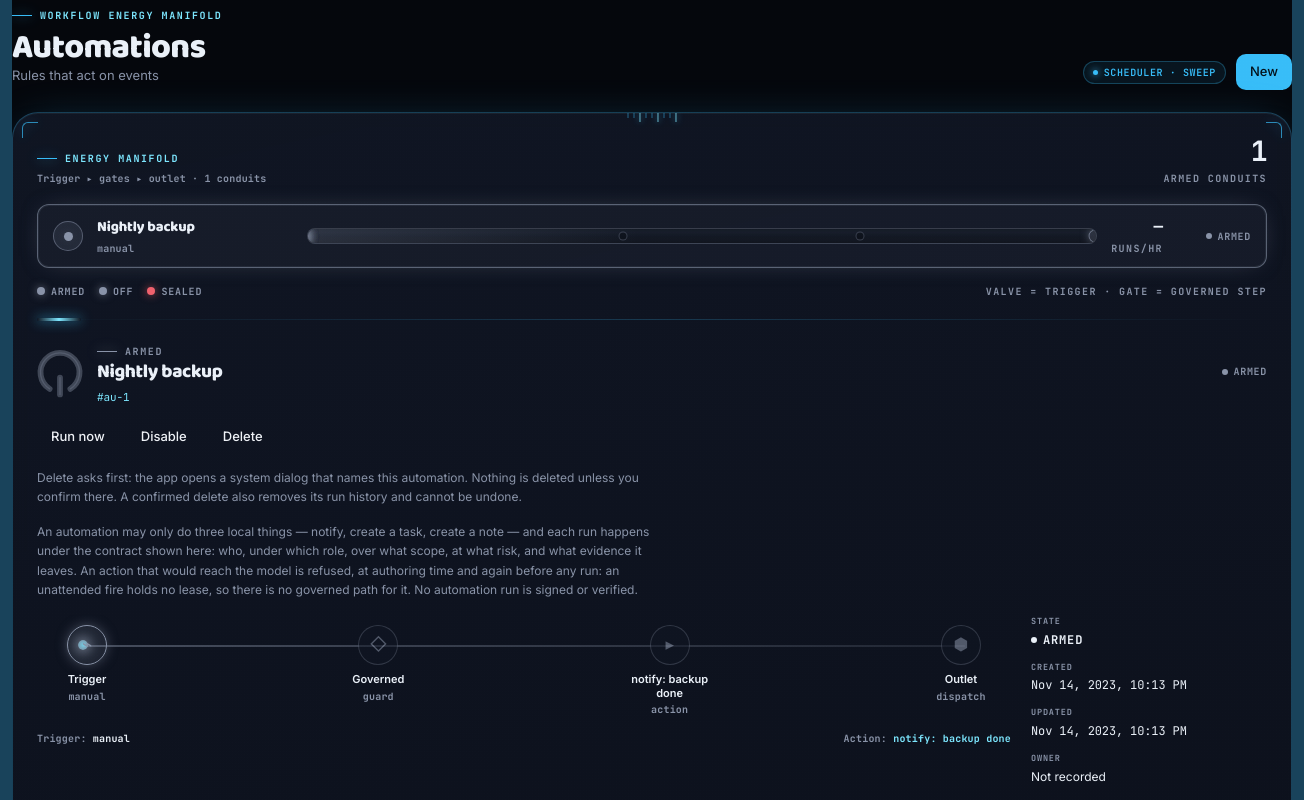
Test: Automations — delete: the app asks natively, the page does not › a declined system dialog is reported as nothing deleted — not as an error, and the row stays
Click the button "Delete". click: (243, 437)
box: [209, 419, 277, 455]
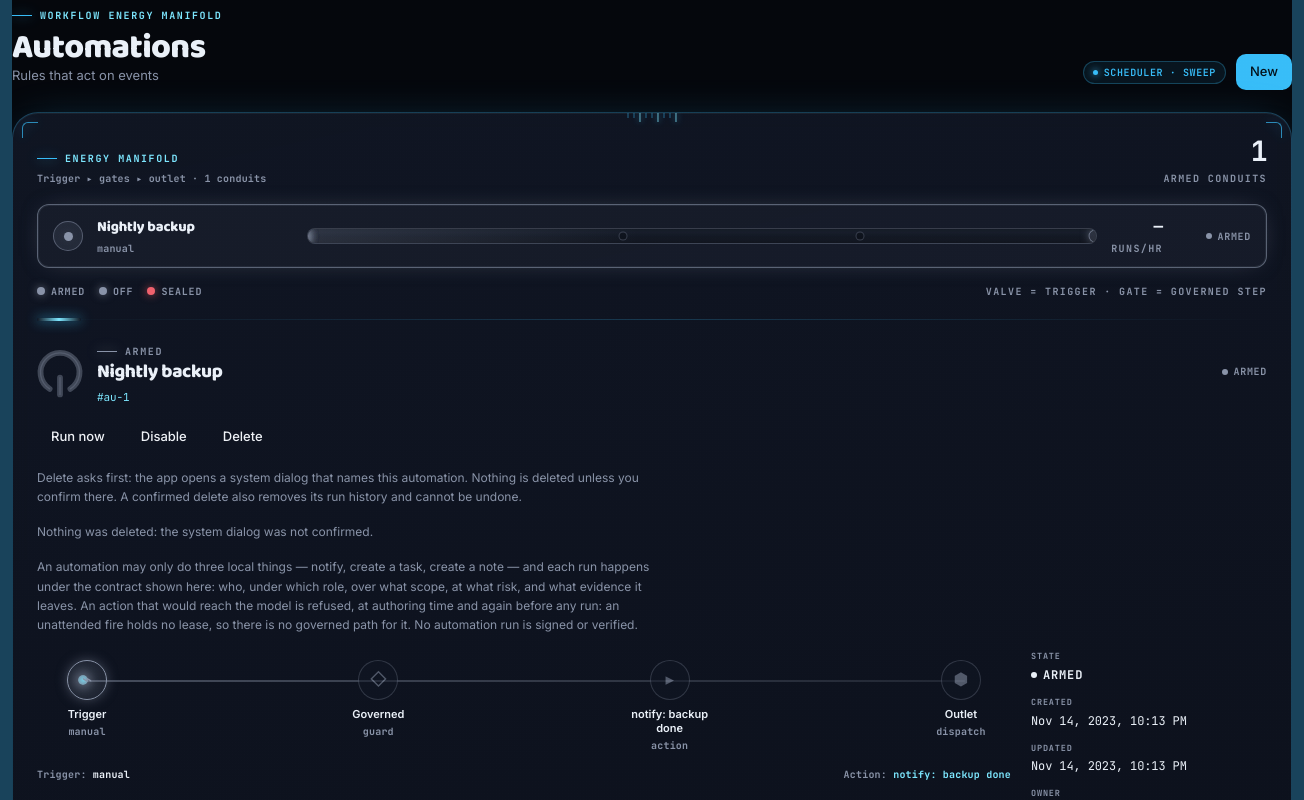
Check: the text "Nightly backup" is shown, box [97, 215, 195, 239]
Check: the text "Nothing was deleted: the system dialog was not confirmed." is shown 2 times
